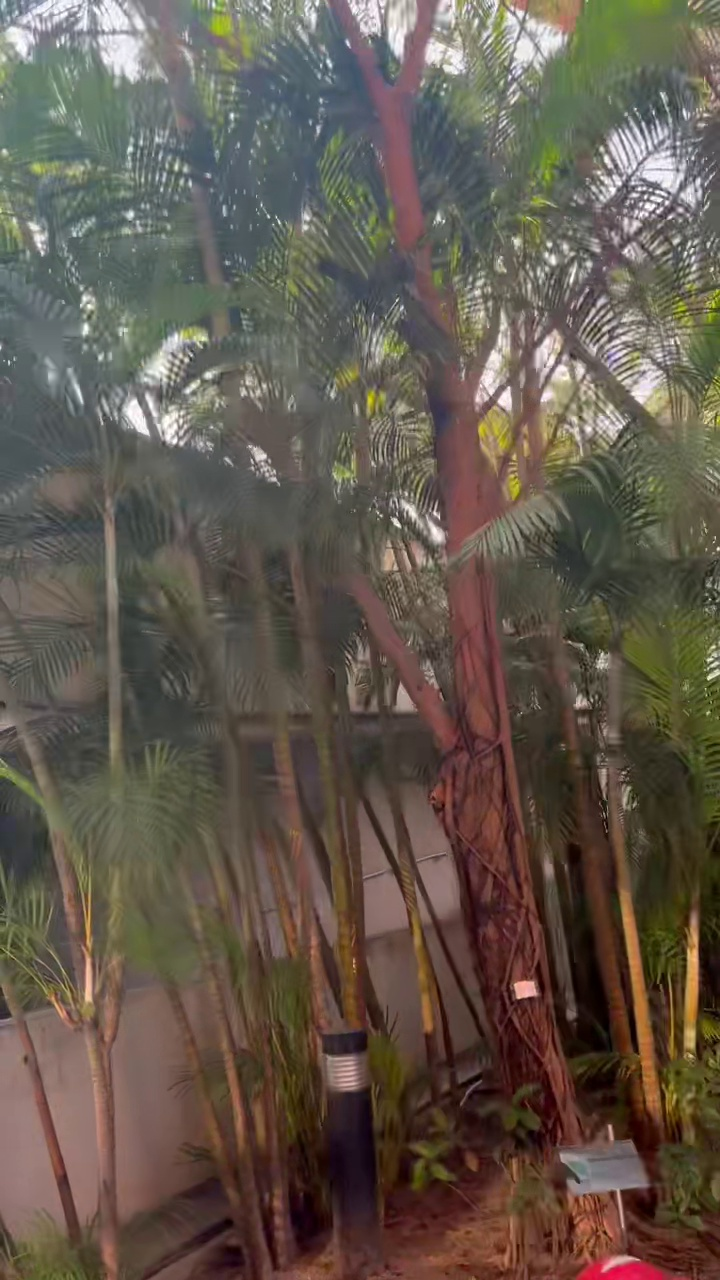Ficus benjamina: (329, 0, 580, 1144)
